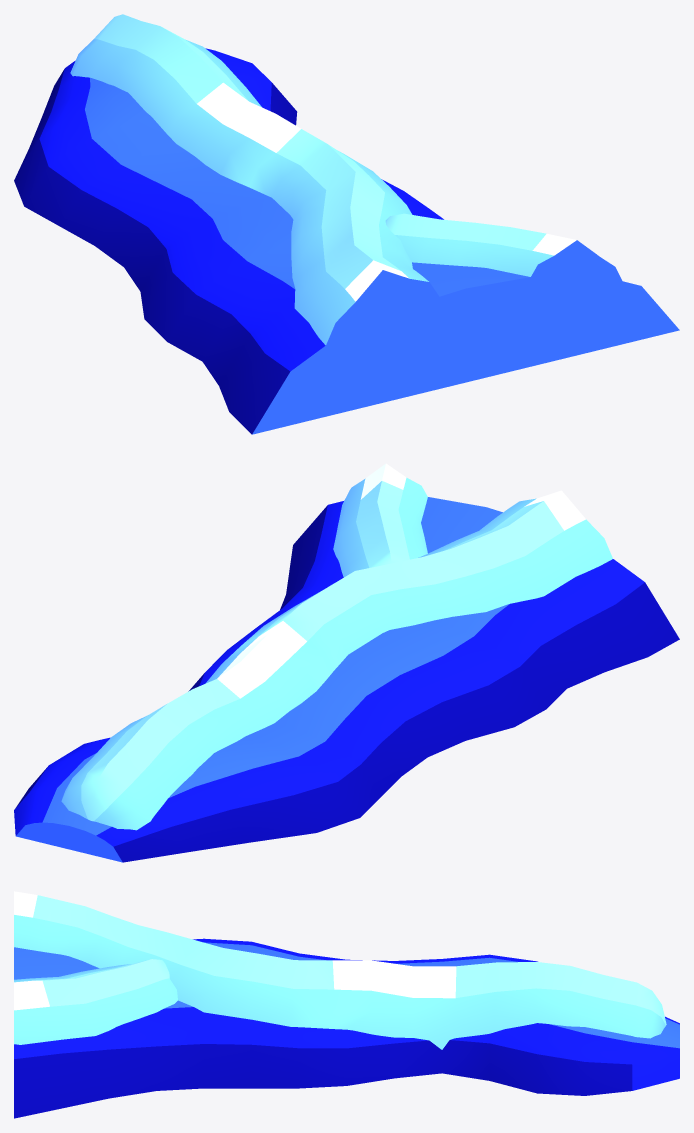
The model's file is shot_lightning_211.glb.
3 renders of one model, top to bottom at view 1: azimuth 30°, elevation 25°; view 2: azimuth 150°, elevation 25°; view 3: azimuth 270°, elevation 25°, orthographic. The views are drawn at different scales.
Visible parts, largest first — view 1: shot_lightning_211_0, shot_lightning_211_1, shot_lightning_211_2; view 2: shot_lightning_211_0, shot_lightning_211_1, shot_lightning_211_2; view 3: shot_lightning_211_0, shot_lightning_211_1, shot_lightning_211_2.
Part boxes in pixels (x1,y1,x2,y2): shot_lightning_211_0: (14,48,679,434); shot_lightning_211_1: (70,14,441,353); shot_lightning_211_2: (385,213,623,284); shot_lightning_211_0: (14,497,679,862); shot_lightning_211_1: (61,490,612,830); shot_lightning_211_2: (333,463,427,577); shot_lightning_211_0: (14,938,679,1118); shot_lightning_211_1: (14,891,666,1049); shot_lightning_211_2: (14,959,177,1044).
Bounding box in the file's own units: 8.5 × 2.52 × 14.
